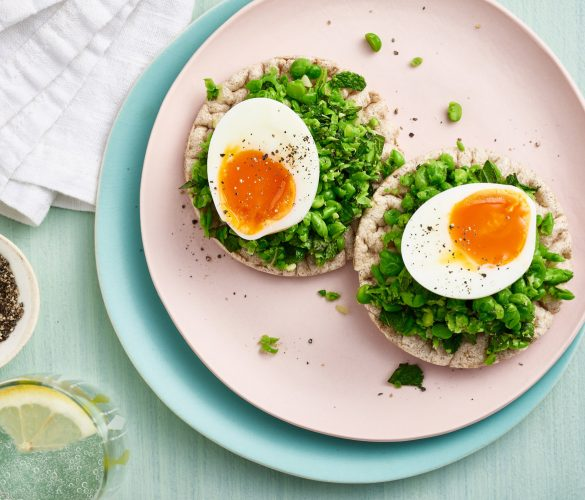chopped lettuce: (301, 72, 392, 249)
